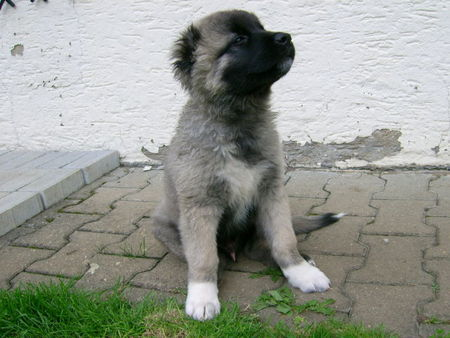cau_ovcharka: (147, 7, 348, 321)
